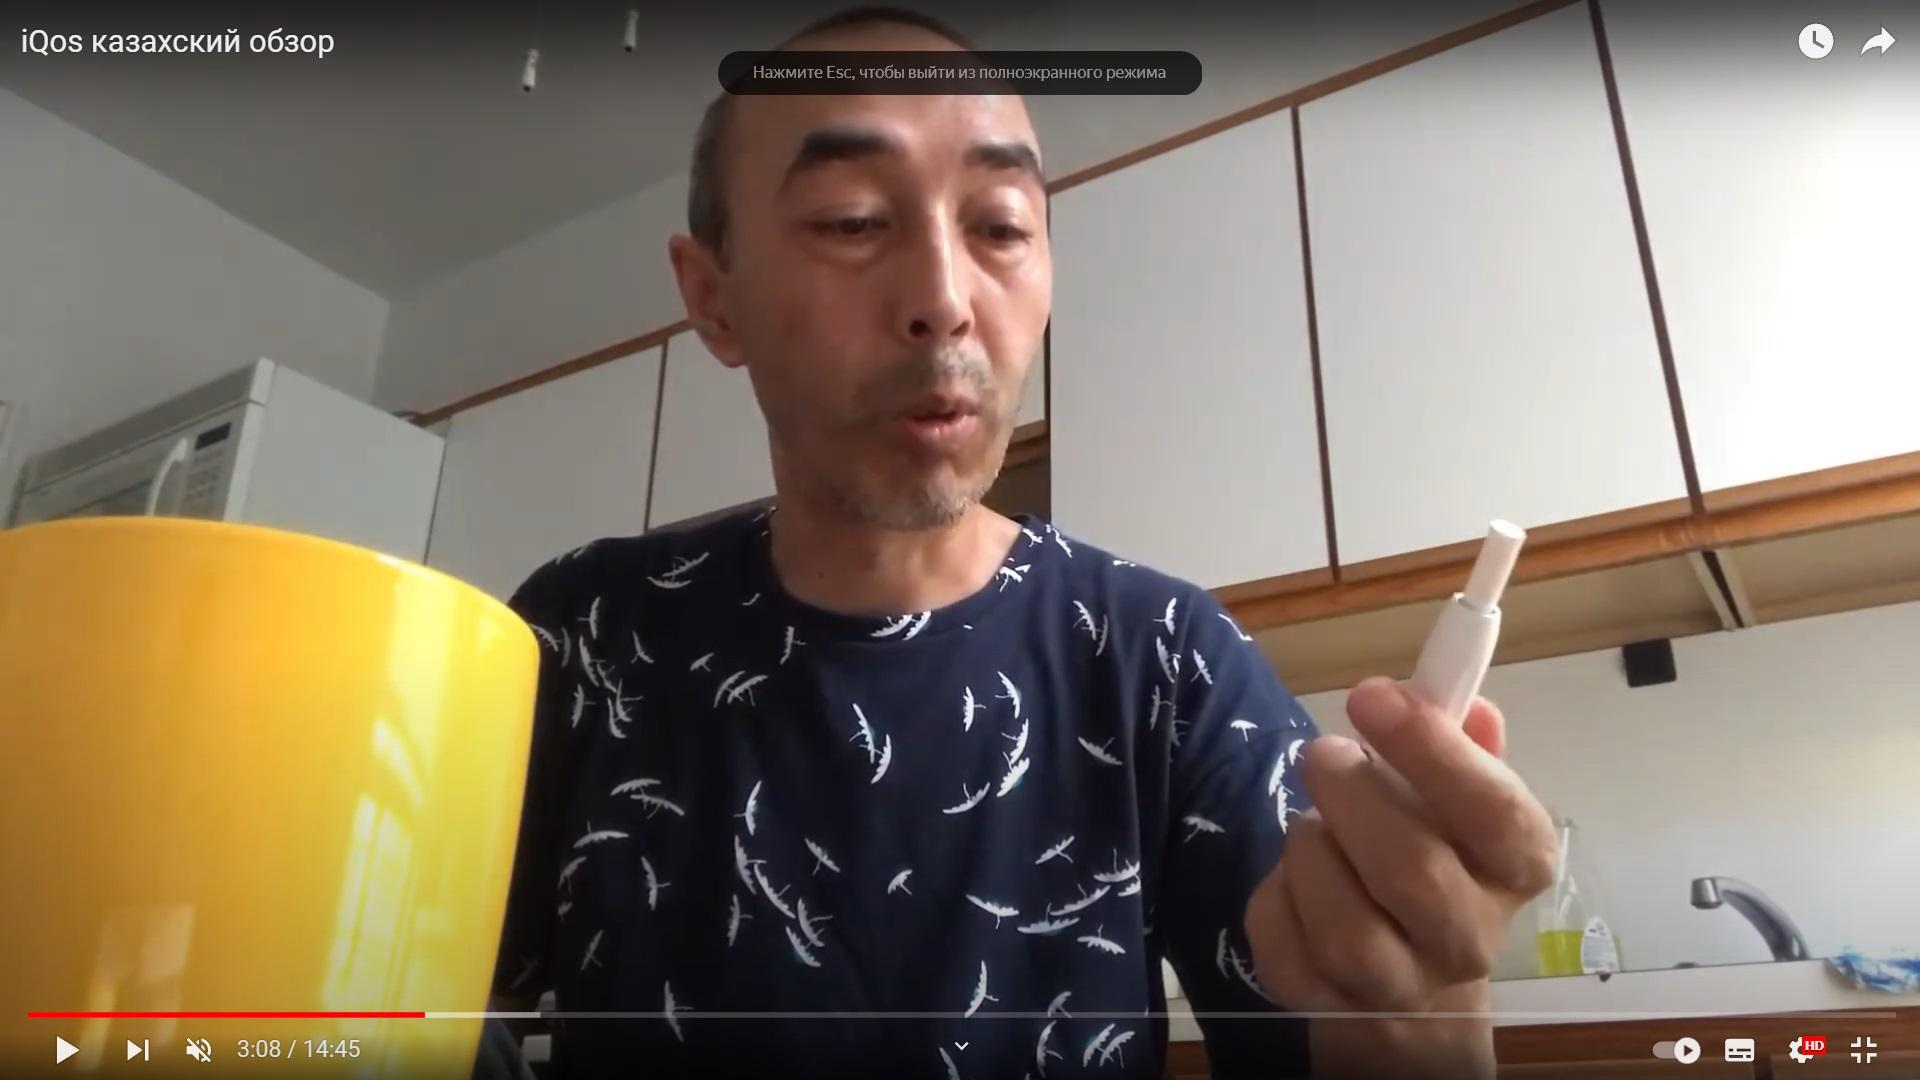iqos: (1407, 517, 1528, 729)
